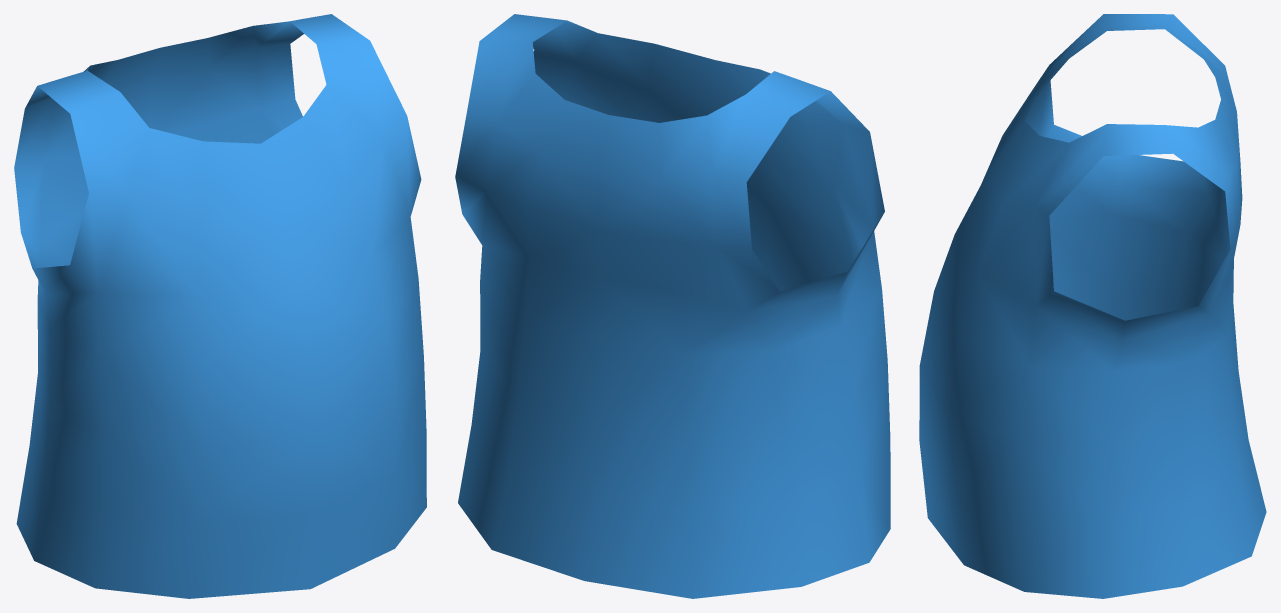
File: Outerwear_Blue_002.glb
3 renders of one model, left to right at view 1: azimuth 30°, elevation 25°; view 2: azimuth 150°, elevation 25°; view 3: azimuth 270°, elevation 25°, orthographic. The views are drawn at different scales.
Visible parts, largest first — view 1: Outerwear_Blue_002; view 2: Outerwear_Blue_002; view 3: Outerwear_Blue_002.
Part boxes in pixels (left/top/right/bottom): Outerwear_Blue_002: left=14, top=14, right=426, bottom=598; Outerwear_Blue_002: left=455, top=14, right=890, bottom=598; Outerwear_Blue_002: left=919, top=14, right=1266, bottom=598.
Bounding box in the file's own units: 0.4413 × 0.5137 × 0.3665.
1 material, 1 textured.
